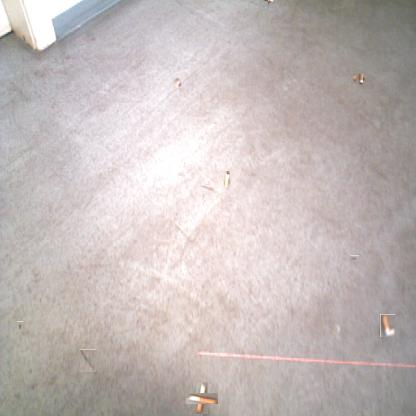dirty: (191, 387, 213, 409), (380, 314, 395, 337), (224, 170, 230, 188), (354, 74, 364, 84), (173, 77, 182, 88), (265, 0, 272, 5)
mark: (80, 349, 96, 372), (200, 183, 215, 198), (350, 255, 359, 263), (17, 321, 23, 330)
